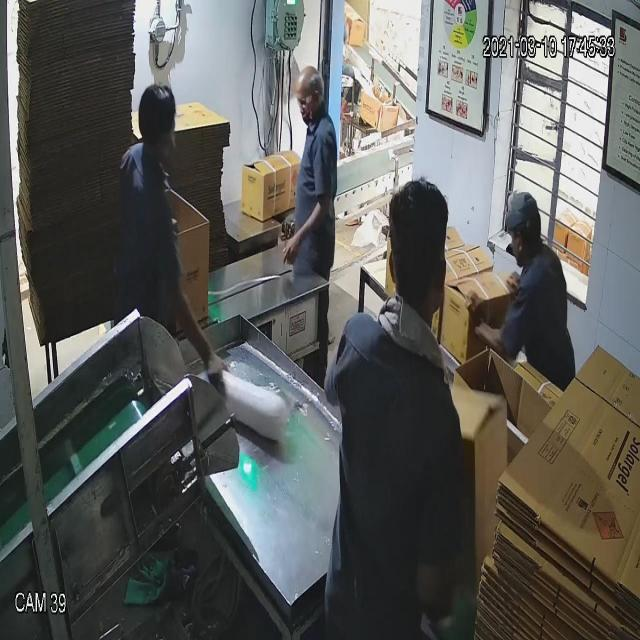No_Gloves: (62, 82, 490, 328)
